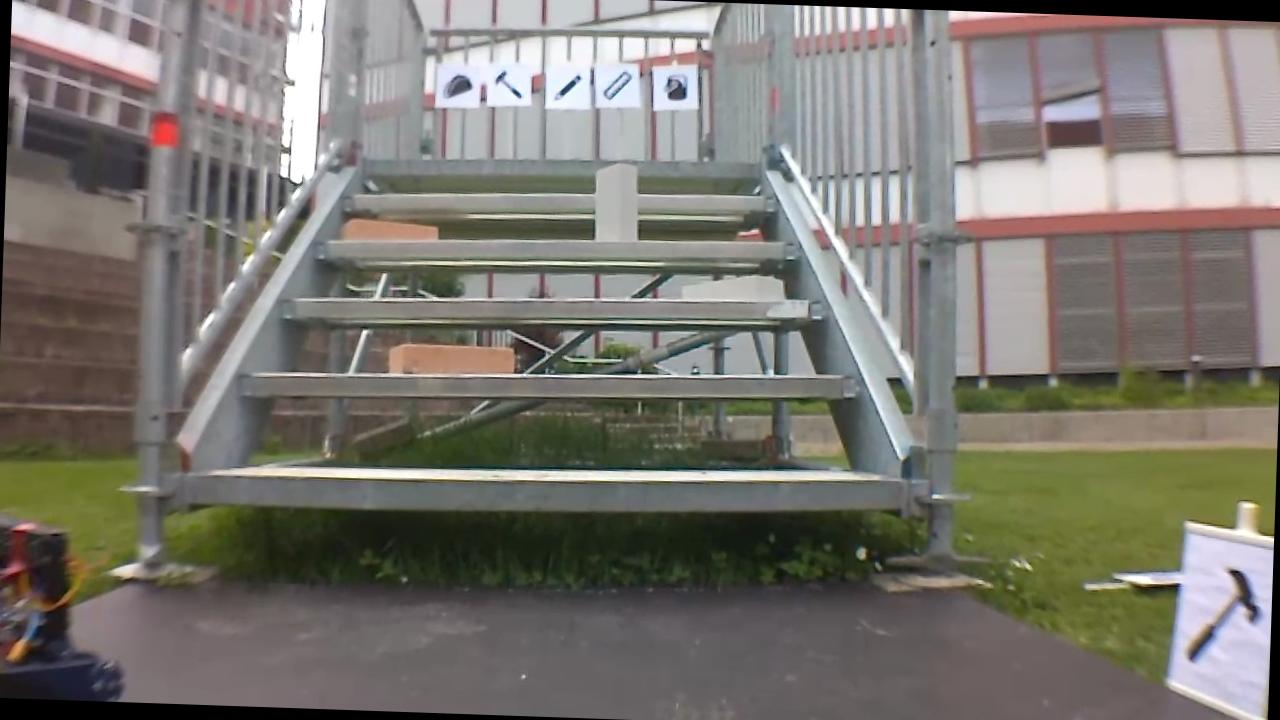brick: (389, 344, 513, 378), (594, 164, 637, 239), (684, 273, 782, 301), (341, 218, 437, 240)
bucket: (658, 68, 691, 102)
edge: (188, 453, 902, 527), (239, 353, 860, 412), (282, 282, 825, 333), (316, 225, 800, 271), (343, 180, 778, 220), (363, 147, 756, 183)
hammer: (1181, 559, 1265, 675), (485, 68, 526, 102)
pencil: (546, 70, 585, 103)
ruler: (599, 67, 633, 104)
steps: (182, 132, 926, 537)
taco: (436, 69, 471, 100)
